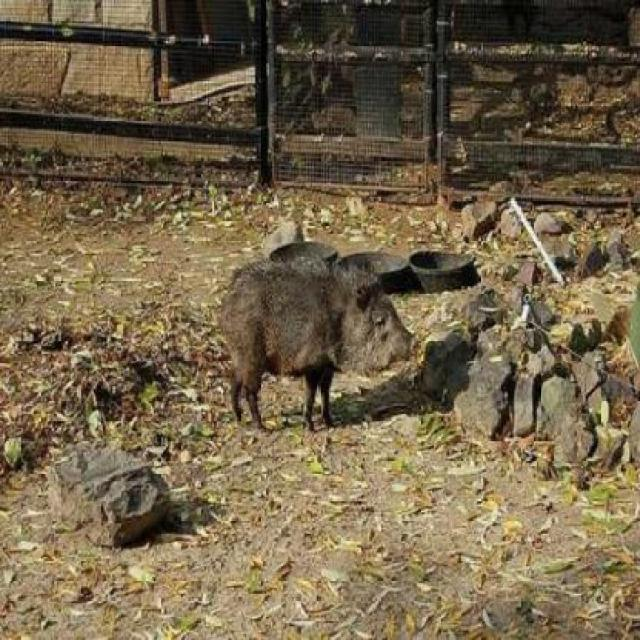Boar: (180, 217, 429, 448)
